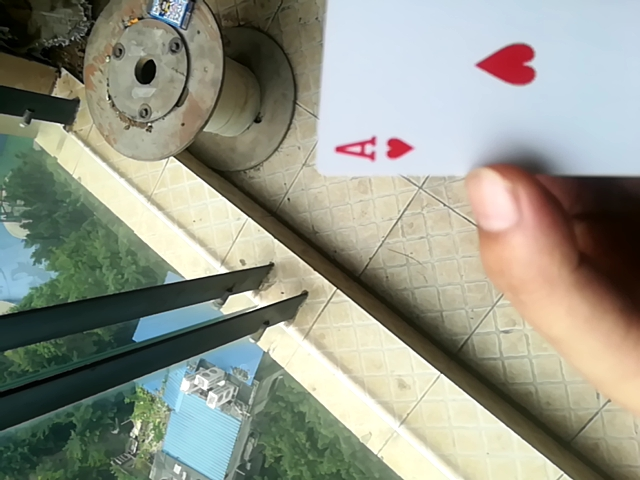hx a: (309, 0, 640, 182)
